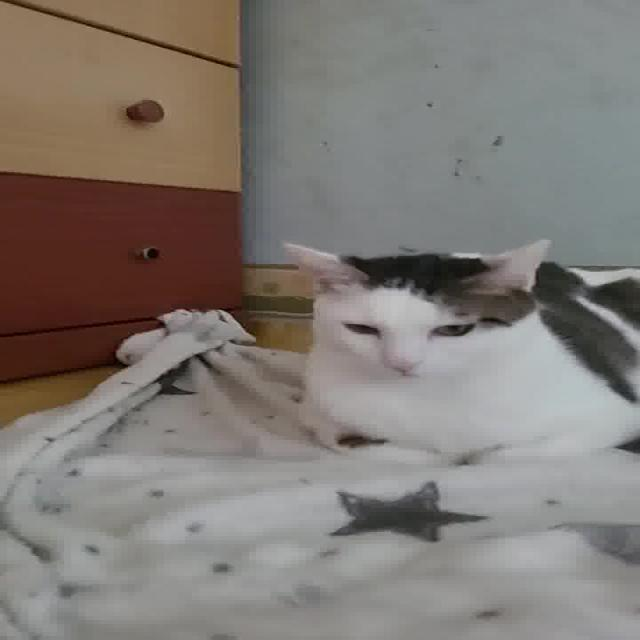cat: (283, 236, 640, 474)
